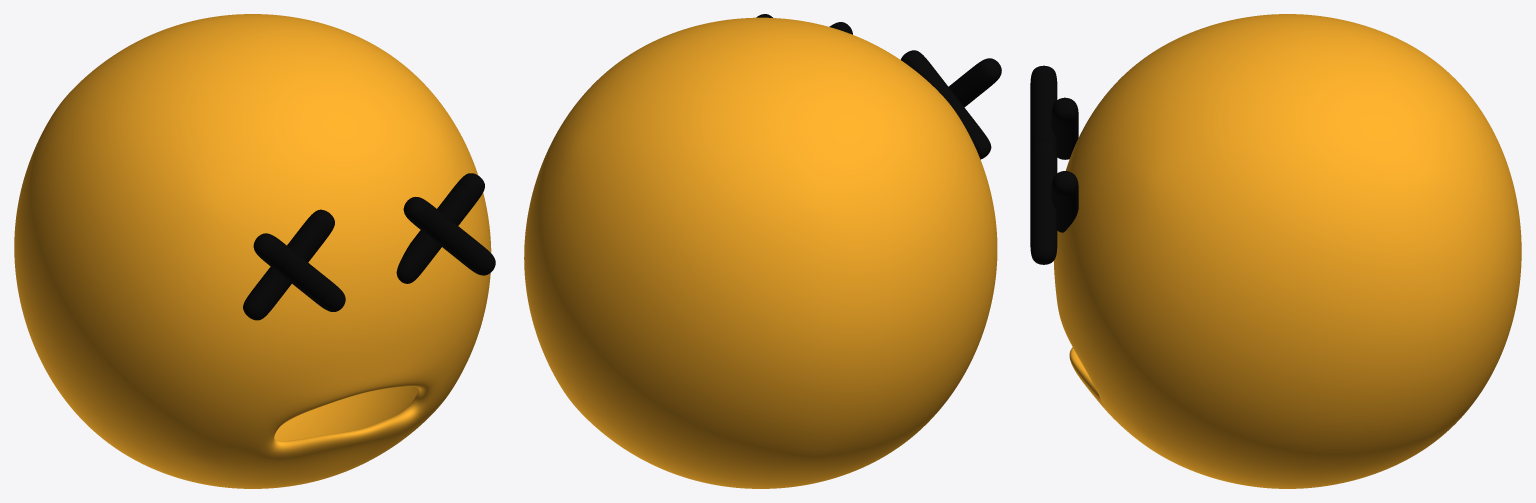
The model's file is Dead Face.glb.
3 views of the same model, side by side, from view 1: azimuth 30°, elevation 25°; view 2: azimuth 150°, elevation 25°; view 3: azimuth 270°, elevation 25° (orthographic).
Parts seen in each view (by area): view 1: Cube.003_Cube.005; view 2: Cube.003_Cube.005; view 3: Cube.003_Cube.005.
Part boxes in pixels (x1,y1,x2,y2): Cube.003_Cube.005: [14, 14, 495, 488]; Cube.003_Cube.005: [524, 14, 1001, 488]; Cube.003_Cube.005: [1030, 14, 1521, 488].
Size of the model in its own units: 1.66 by 1.66 by 1.74.
